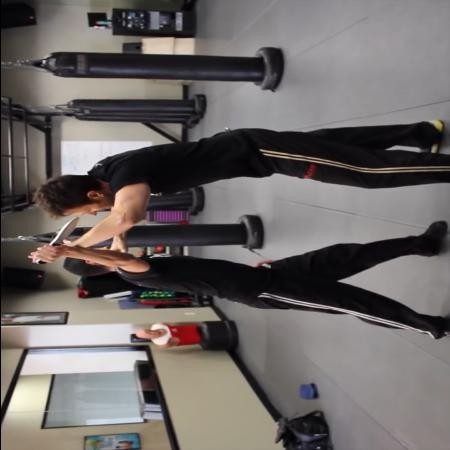long weapon: (28, 216, 80, 266)
